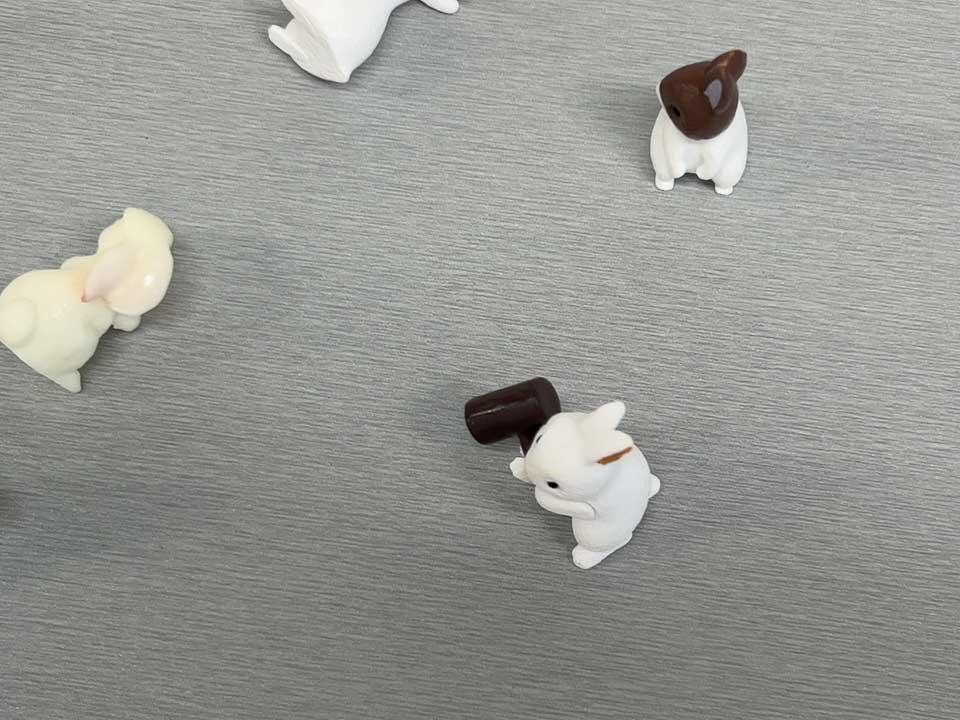pet: (459, 373, 663, 573), (0, 201, 179, 399), (643, 49, 755, 198)
